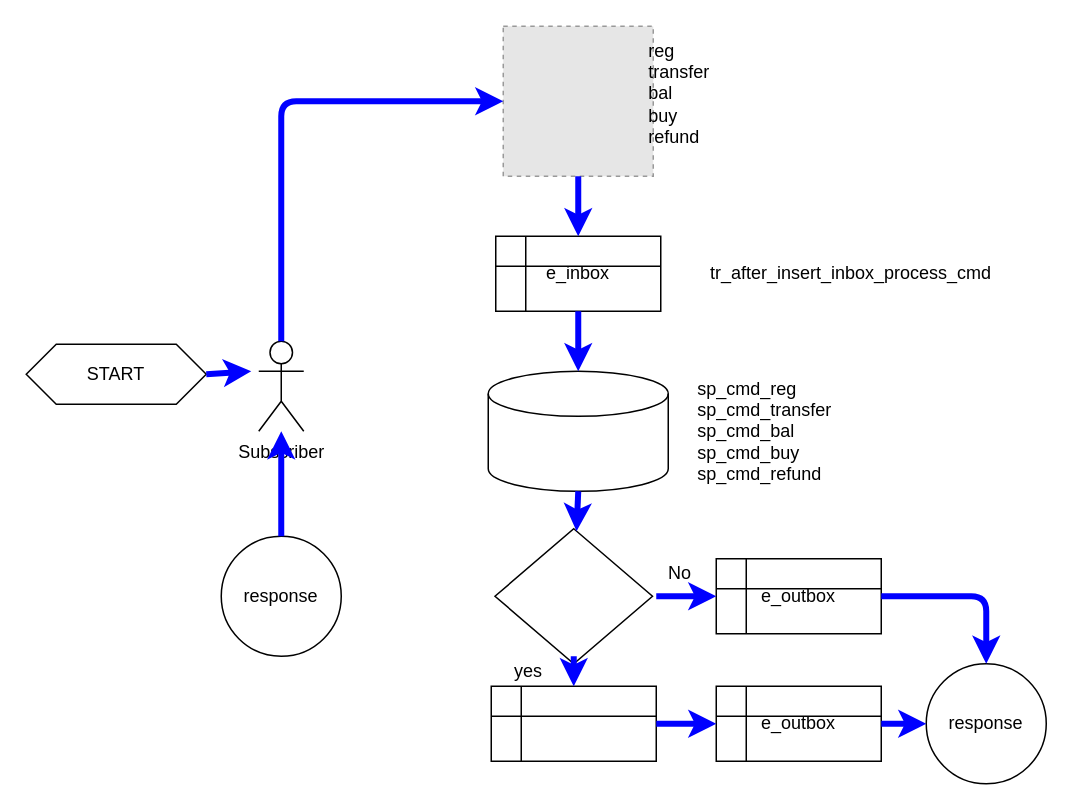
Some shapes in this 1073 by 810 pixel diagram are drawn without their labels. Grey dashed boxes stand in for pictures. The centre of each missing label's shape, as x and y in pixels:
classicmodels: pixel 577 430
e_ledger: pixel 573 723
valid transaction: pixel 573 595
